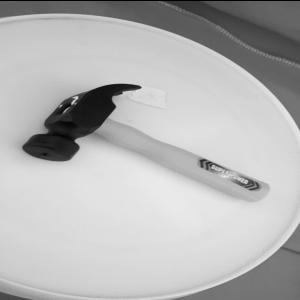martelo: (21, 81, 272, 204)
